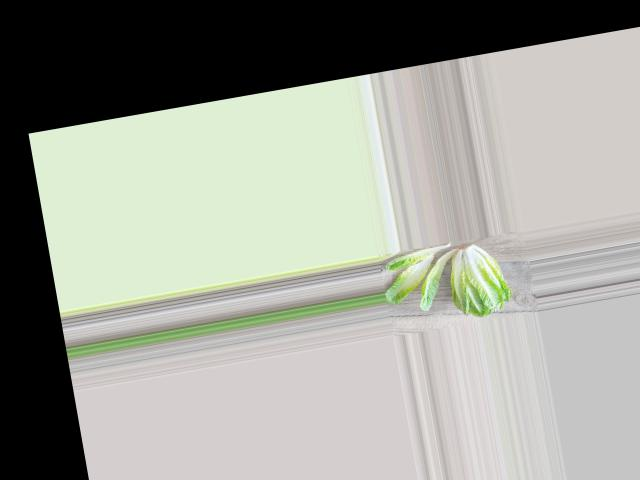lettuce: (441, 240, 516, 321)
